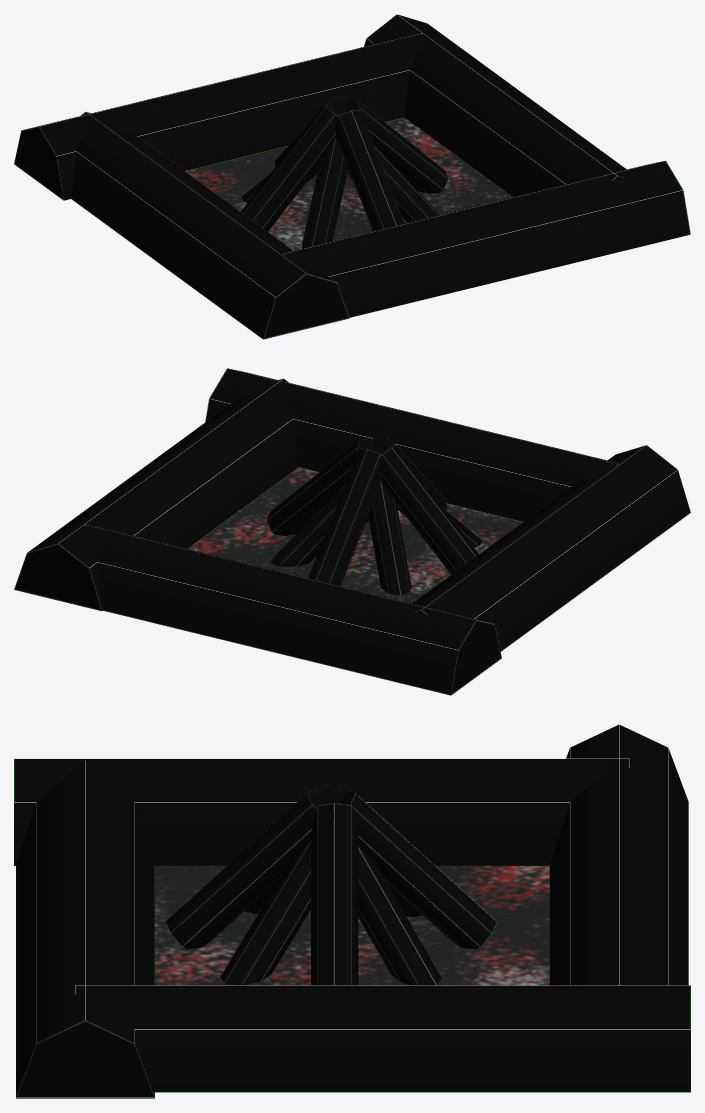
The model's file is firepit.FBX.
The picture shows the model from 3 angles, top to bottom: view 1: azimuth 30°, elevation 25°; view 2: azimuth 150°, elevation 25°; view 3: azimuth 270°, elevation 25°; orthographic projection. The views are drawn at different scales.
Parts seen in each view (by area): view 1: Cylinder003, Cylinder004, Cylinder005, Cylinder001, Plane001, Cylinder007, Cylinder008, Cylinder006, Cylinder011, Cylinder012; view 2: Cylinder005, Cylinder001, Cylinder004, Cylinder003, Plane001, Cylinder007, Cylinder002, Cylinder006, Cylinder010, Cylinder009, Cylinder008; view 3: Cylinder001, Cylinder004, Cylinder003, Cylinder005, Plane001, Cylinder006, Cylinder008, Cylinder002, Cylinder012, Cylinder009.
Part boxes in pixels (x1,y1,x2,y2): Cylinder003: (282, 160, 690, 317); Cylinder004: (71, 111, 349, 339); Cylinder005: (14, 33, 421, 200); Cylinder001: (364, 14, 626, 197); Plane001: (185, 117, 512, 250); Cylinder007: (241, 105, 337, 231); Cylinder008: (335, 110, 404, 231); Cylinder006: (345, 99, 448, 193); Cylinder011: (302, 138, 348, 248); Cylinder012: (373, 144, 439, 222); Cylinder005: (85, 524, 501, 695); Cylinder001: (14, 378, 298, 611); Cylinder004: (412, 445, 690, 651); Cylinder003: (205, 368, 618, 522); Plane001: (188, 468, 522, 603); Cylinder007: (379, 445, 478, 574); Cylinder002: (308, 448, 381, 586); Cylinder006: (266, 439, 374, 535); Cylinder010: (368, 481, 410, 595); Cylinder009: (270, 485, 344, 566); Cylinder008: (371, 436, 446, 509); Cylinder001: (75, 985, 690, 1092); Cylinder004: (14, 758, 629, 865); Cylinder003: (16, 760, 154, 1098); Cylinder005: (549, 724, 688, 985); Plane001: (155, 866, 549, 985); Cylinder006: (311, 803, 358, 985); Cylinder008: (165, 790, 323, 949); Cylinder002: (339, 790, 497, 949); Cylinder012: (220, 841, 310, 985); Cylinder009: (358, 845, 441, 985).
Size of the model in its own units: 78.74 by 21.74 by 76.02.
